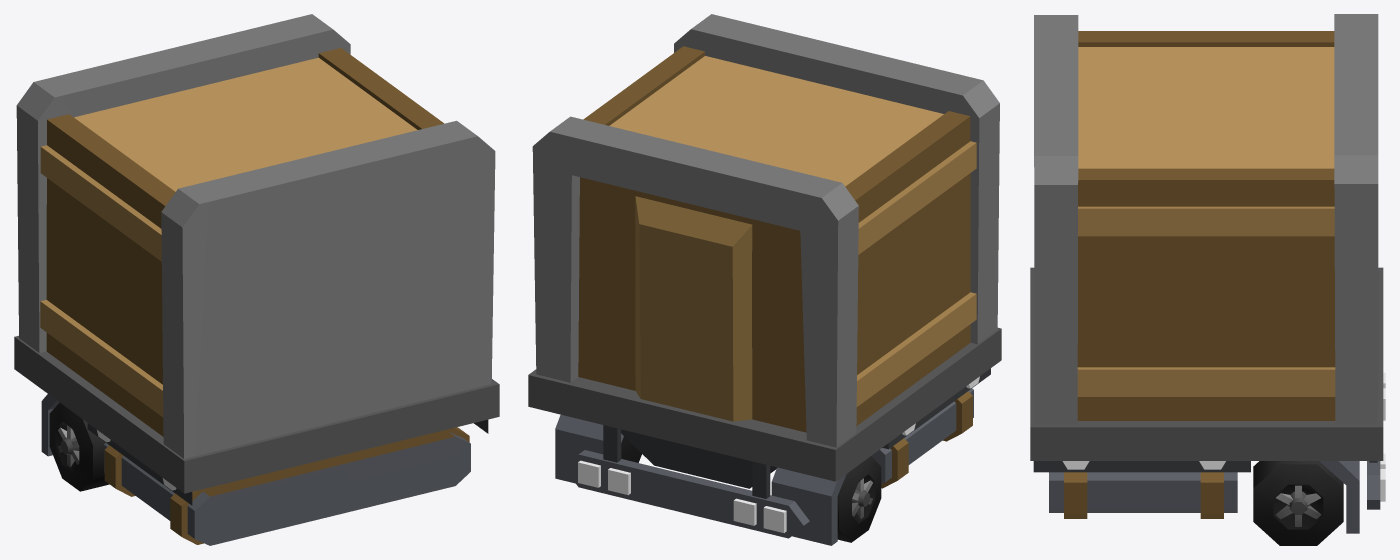
Rendered from cargo_01_E_2.fbx.
The picture shows the model from 3 angles, left to right: view 1: azimuth 30°, elevation 25°; view 2: azimuth 150°, elevation 25°; view 3: azimuth 270°, elevation 25°; orthographic projection. The views are drawn at different scales.
Parts seen in each view (by area): view 1: cargo_01_E_2; view 2: cargo_01_E_2; view 3: cargo_01_E_2.
Boxes of the visible parts, x1=… form: cargo_01_E_2: x1=14, y1=14, x2=499, y2=545; cargo_01_E_2: x1=528, y1=14, x2=1001, y2=545; cargo_01_E_2: x1=1030, y1=14, x2=1385, y2=545.
Bounding box in the file's own units: 13.95 × 15.85 × 13.12.
